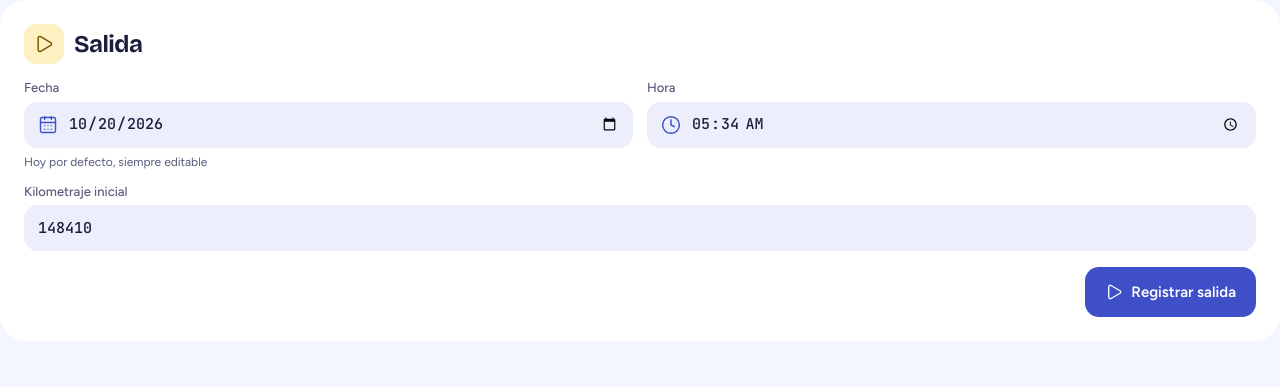
DepartureCard before the departure › says what is missing before opening the confirmation
Clear the time field labelled "Hora" at coordinates (952, 125), box [647,102,1256,148]
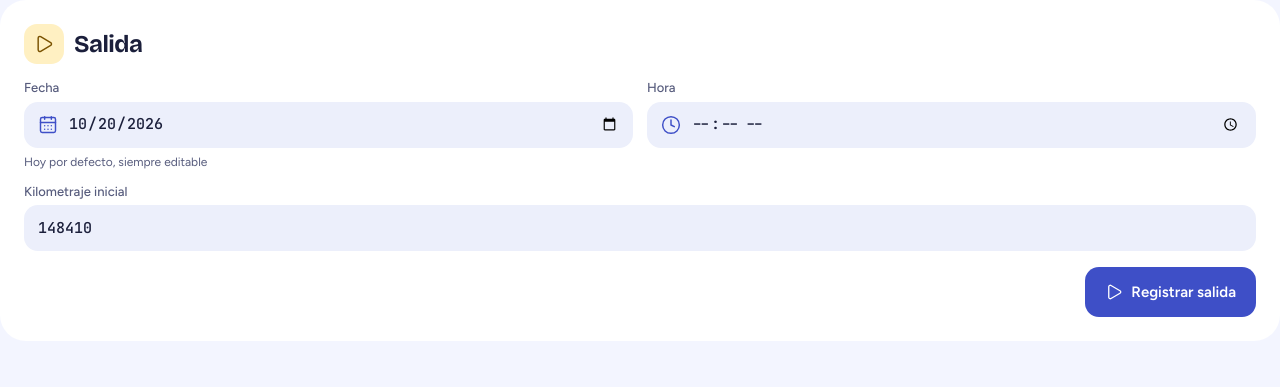
Replace the text in the field labelled "Kilometraje inicial" with "abc" at coordinates (640, 228), box [24,205,1256,251]
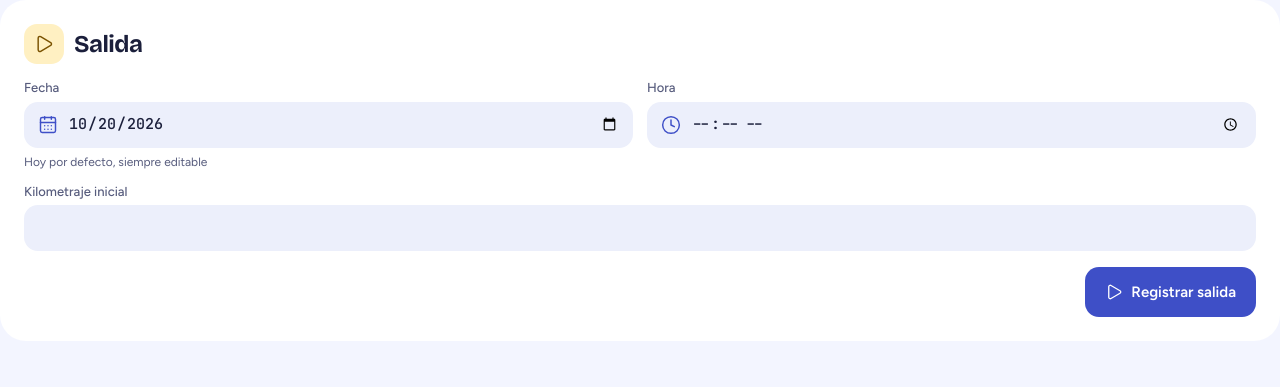
Click the button "Registrar salida" at coordinates (1171, 292), box [1085,267,1256,317]
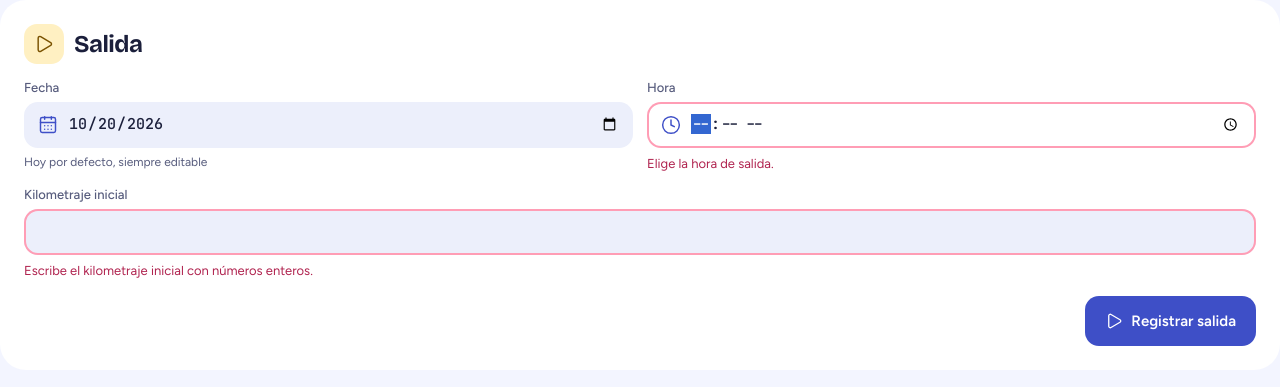
Now the text "Elige la hora de salida." is shown, box [647,156,774,171]
Now the text "Escribe el kilometraje inicial con números enteros." is shown, box [24,263,313,278]
